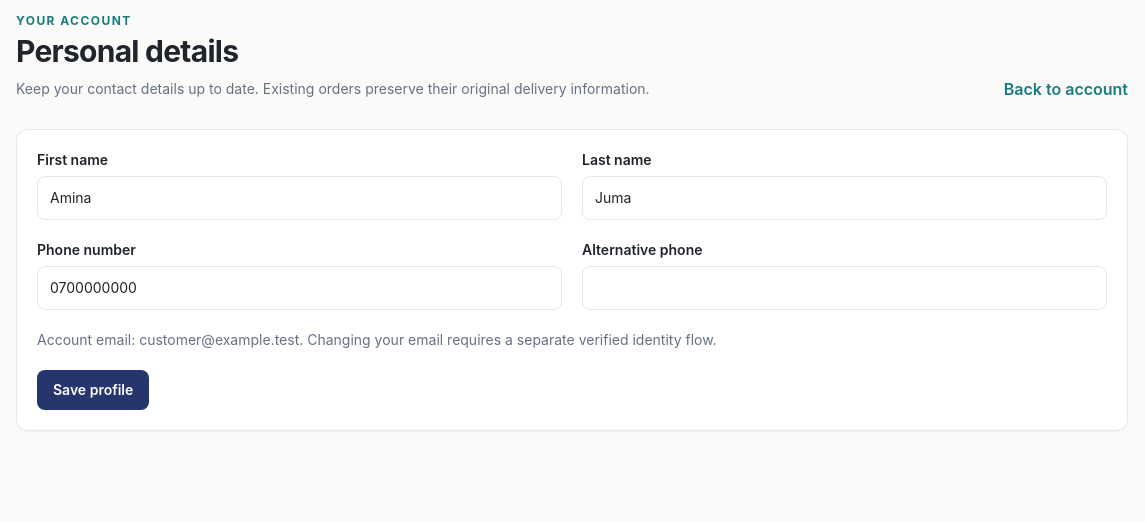
Test: owned customer profile UI › loads the backend profile and persists edited contact fields
This screenshot has width=1145, height=522.
Expected: the text "Account email: customer@example.test" is shown, [37,331,717,348]
Replace the text in the field labelled "First name" with "Marta" at (300, 198), box [37,176,562,220]
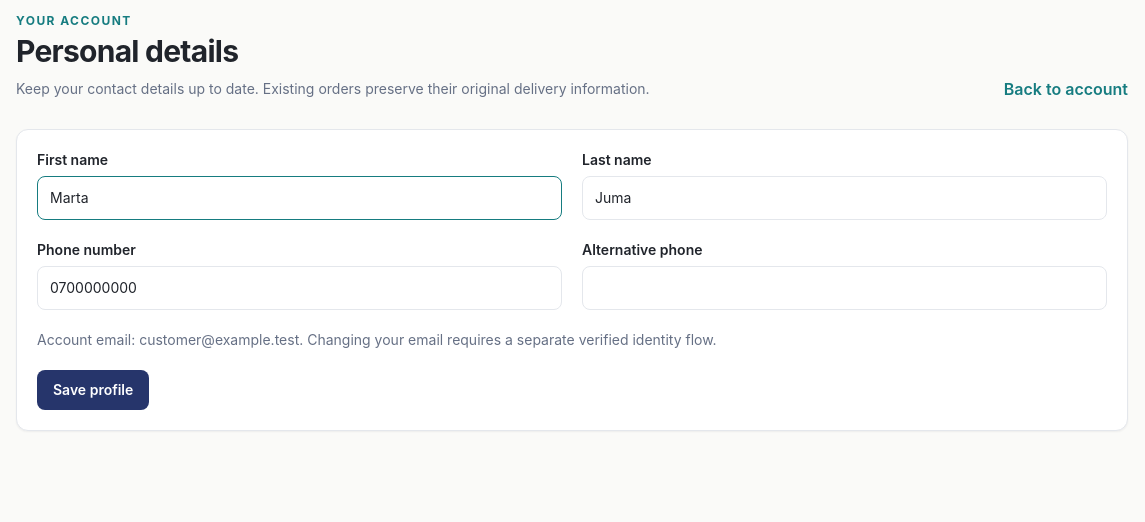
Replace the text in the field labelled "Phone number" with "+254712345678" at (300, 288), box [37,266,562,310]
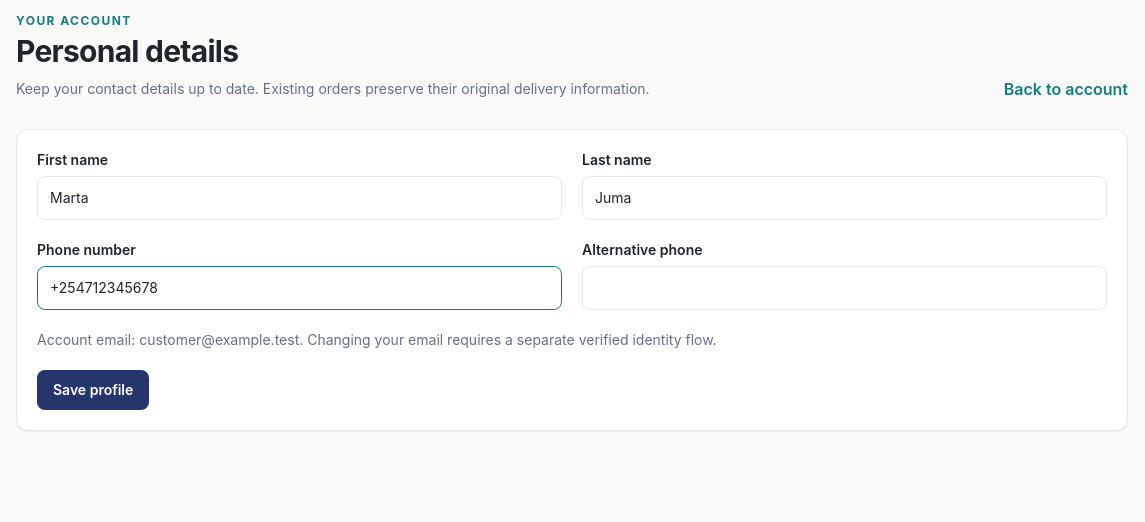
Click the button "Save profile" at (93, 390), box [37,370,149,410]
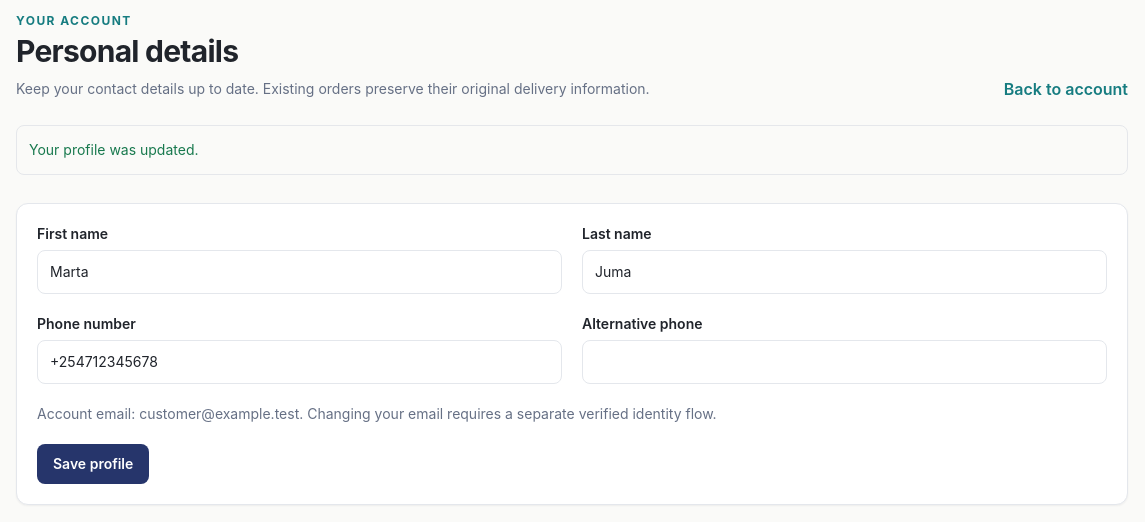
Expected: the text "Your profile was updated." is shown, [16,125,1128,175]
